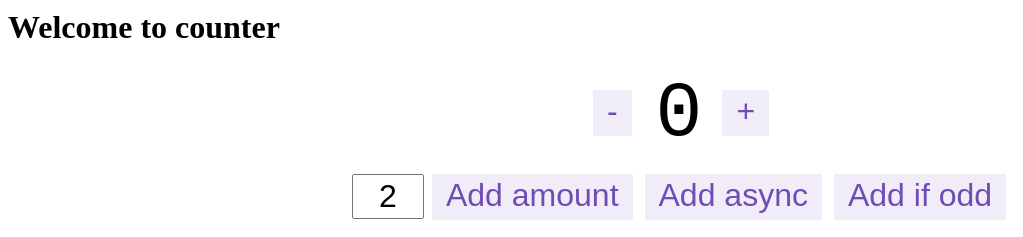
Test: <Counter /> › increases amount by 2 on click `Add amount` button.
Expected: the text titled "Counter value" reads "0", top-left (656, 70), bottom-right (702, 158)
Click the button "Add amount". click: (532, 197)
box: top-left (432, 174), bottom-right (633, 220)
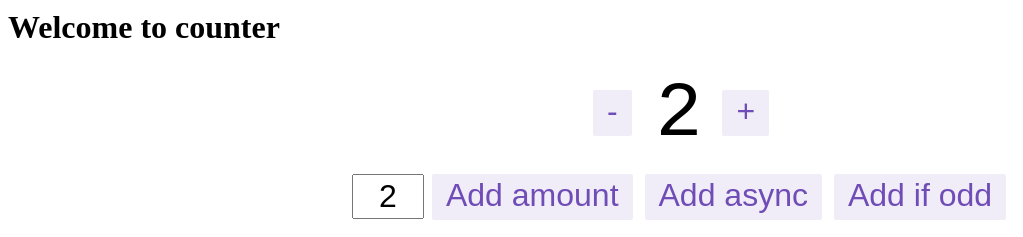
Expected: the text titled "Counter value" reads "2", top-left (656, 70), bottom-right (702, 158)
